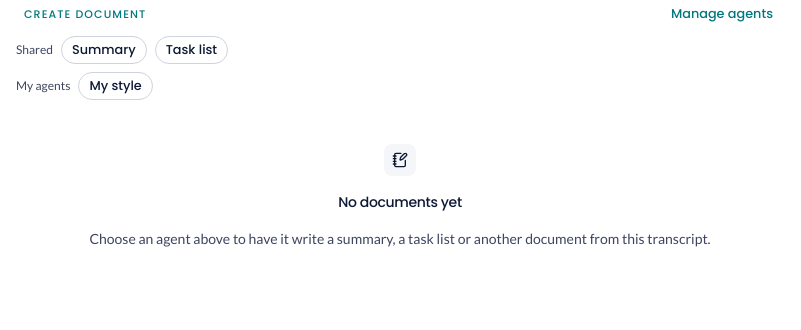
Test case: runs an agent and shows the note it wrote
Expected: the heading "No documents yet" is shown, [338,192,462,212]
Expected: the text "My agents" is shown, [16,78,70,94]
Click the button "Task list" at [191, 50], box [155,36,228,64]
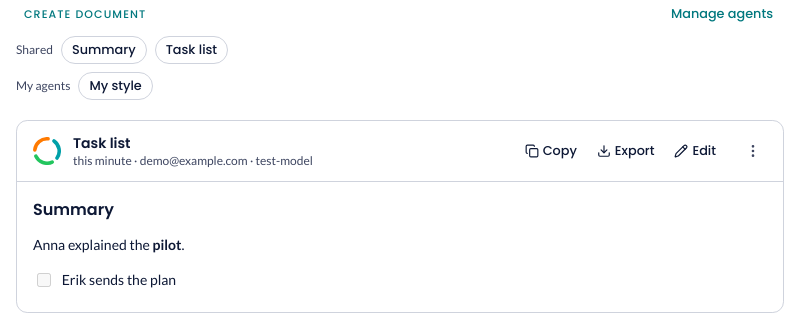
Expected: the heading "Summary" is shown, [33,198,114,221]
Expected: the checkbox is not checked, [37,273,51,287]
